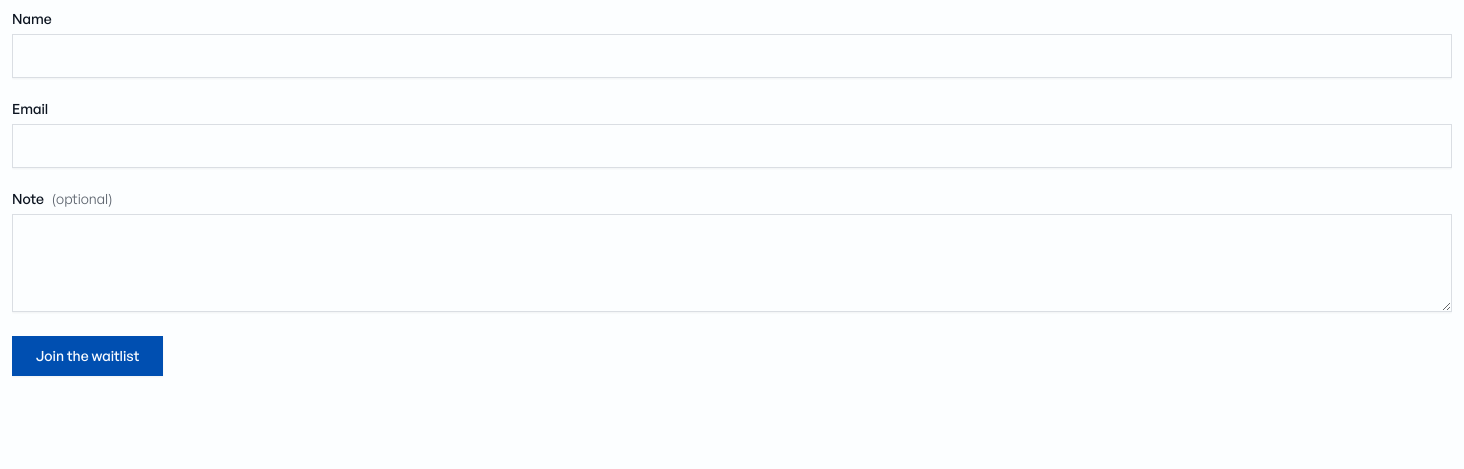
WaitlistForm › routes a valid submission to the waitlist confirmation heading
The width and height of the screenshot is (1464, 469).
Expected: the button "Join the waitlist" is shown, [12, 336, 163, 376]
In the field labelled "Name": (732, 56) [12, 34, 1452, 78], type "Grace Hopper"
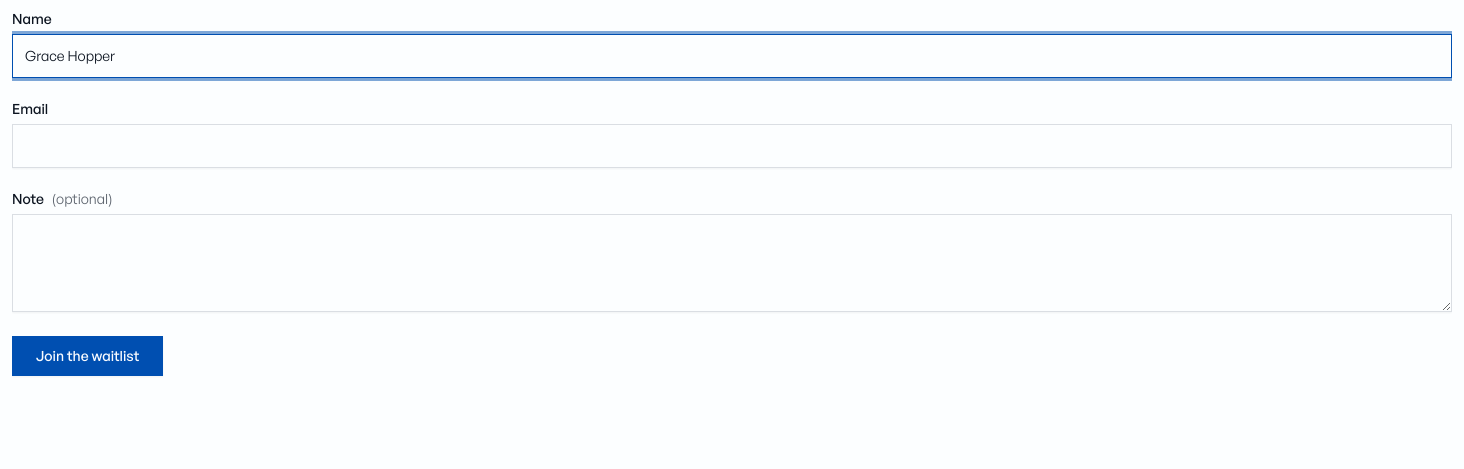
Expected: the button "Join the waitlist" is shown, [12, 336, 163, 376]
In the field labelled "Email": (732, 146) [12, 124, 1452, 168], type "grace@example.com"
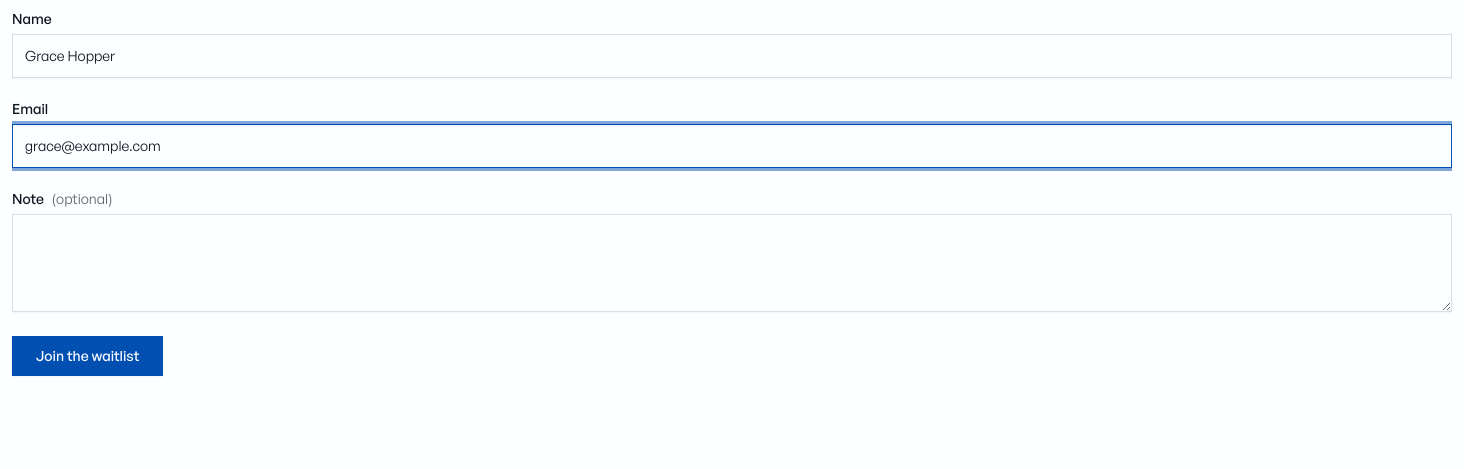
Click the button "Join the waitlist": click(88, 356) [12, 336, 163, 376]
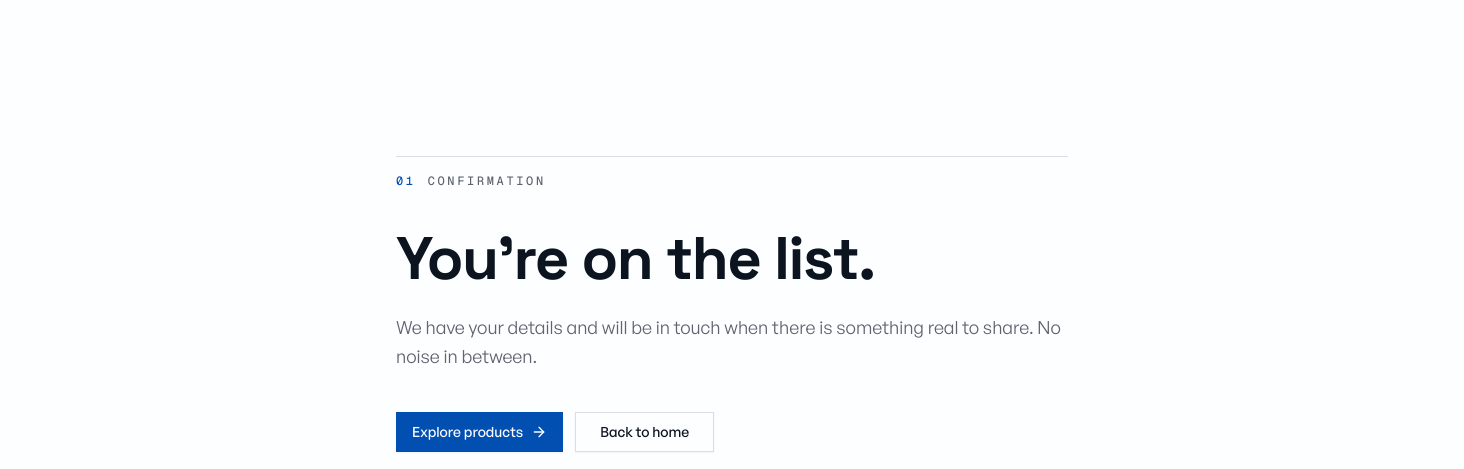
Now the heading "You're on the list." is shown, box [396, 220, 875, 297]
